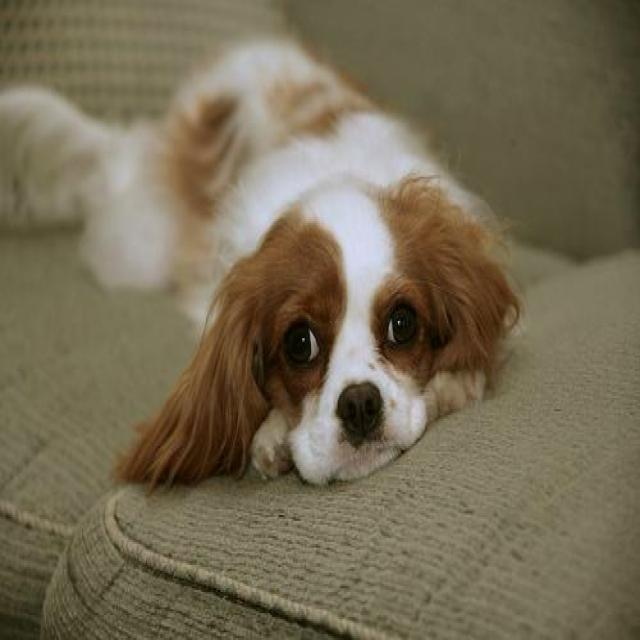blenheim_spaniel: (0, 34, 522, 490)
